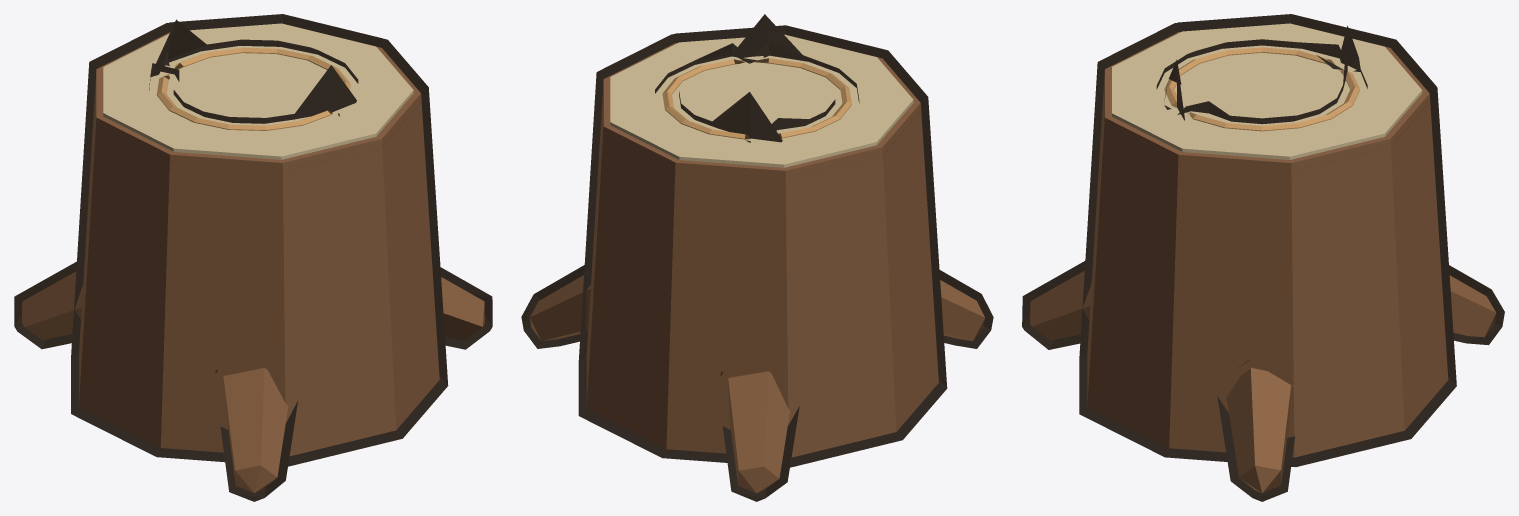
The model's file is stump_01.glb.
3 renders of one model, left to right at view 1: azimuth 30°, elevation 25°; view 2: azimuth 150°, elevation 25°; view 3: azimuth 270°, elevation 25°, orthographic. The views are drawn at different scales.
Parts seen in each view (by area): view 1: OBJ_stump_01; view 2: OBJ_stump_01; view 3: OBJ_stump_01.
Part boxes in pixels (x1,y1,x2,y2): OBJ_stump_01: [14, 14, 492, 501]; OBJ_stump_01: [521, 14, 993, 501]; OBJ_stump_01: [1022, 14, 1504, 501].
Size of the model in its own units: 0.5028 by 0.421 by 0.519.
